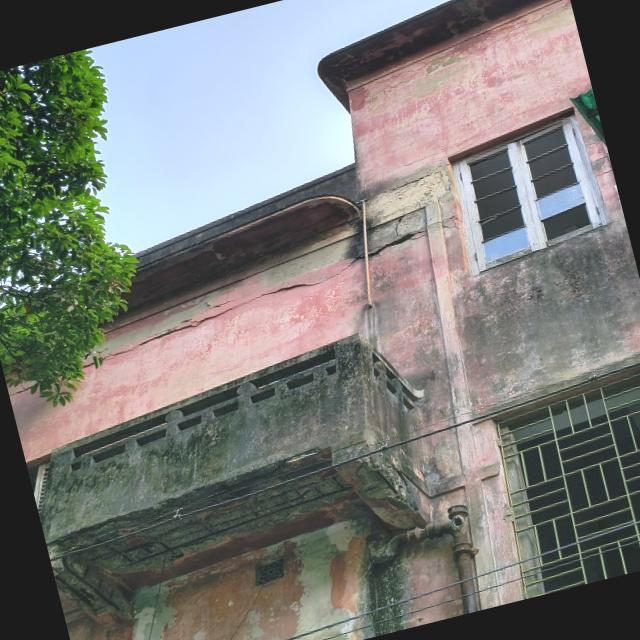Corrosion stain: (382, 504, 480, 614)
Moss growth due to damping: (460, 231, 640, 406), (346, 508, 400, 636)
Paint Peeling: (10, 164, 367, 465), (367, 171, 450, 253), (366, 203, 428, 267)
Spalling: (56, 448, 363, 615)
